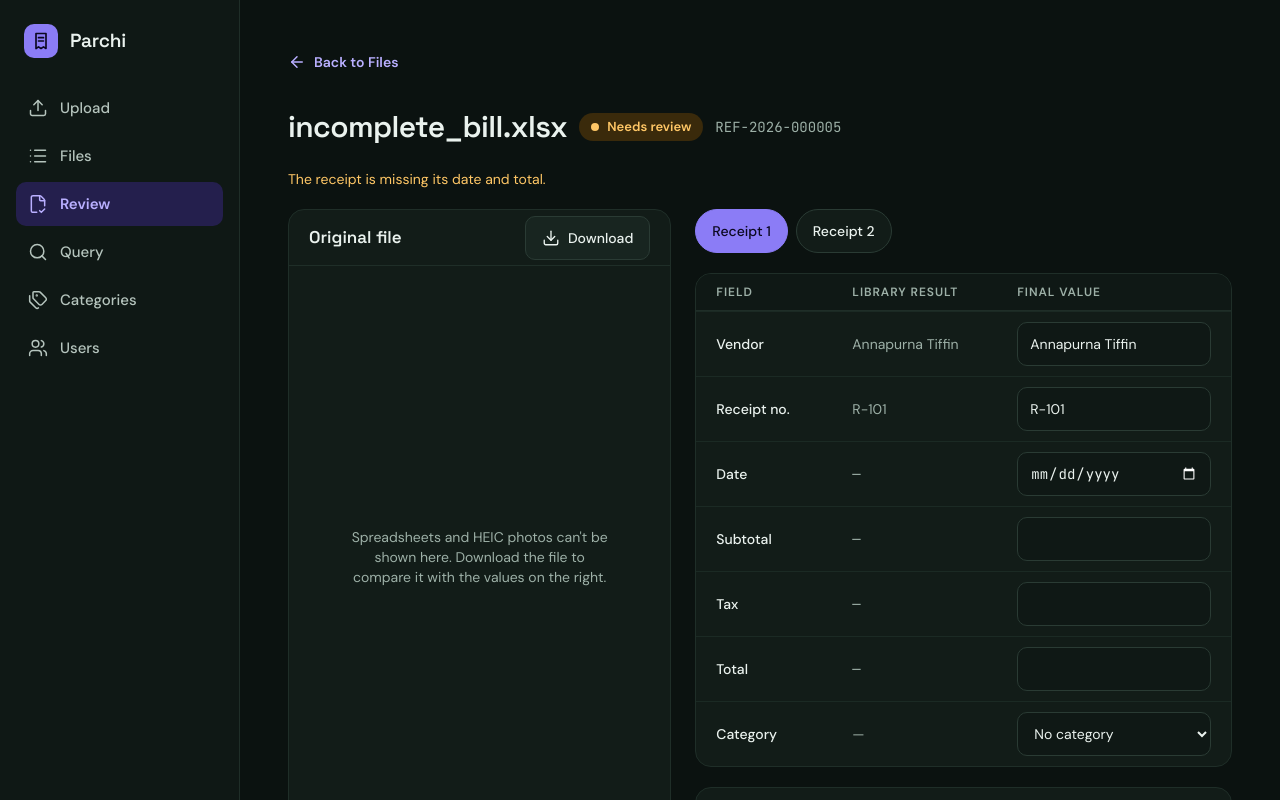
Review page › shows one tab per receipt when a file holds several
This screenshot has width=1280, height=800.
Check: the field labelled "Receipt no." holds "R-101", box [1017, 387, 1211, 431]
Click the tab "Receipt 2" at (844, 231), box [796, 209, 892, 253]
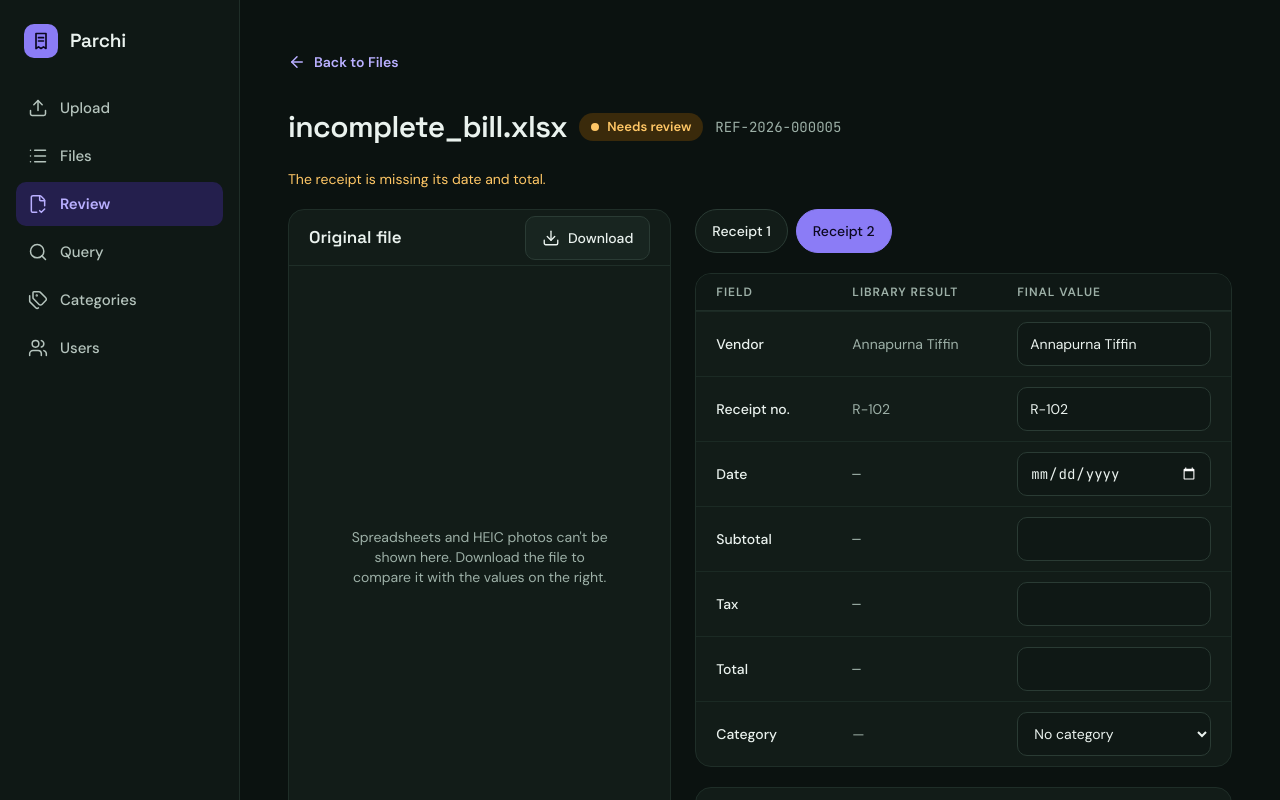
Check: the field labelled "Receipt no." holds "R-102", box [1017, 387, 1211, 431]
